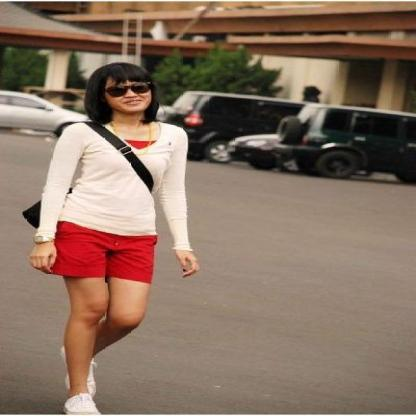bag: (23, 129, 153, 228)
shirt: (35, 122, 192, 250)
shoe: (63, 374, 112, 416)
shorts: (52, 220, 156, 290)
